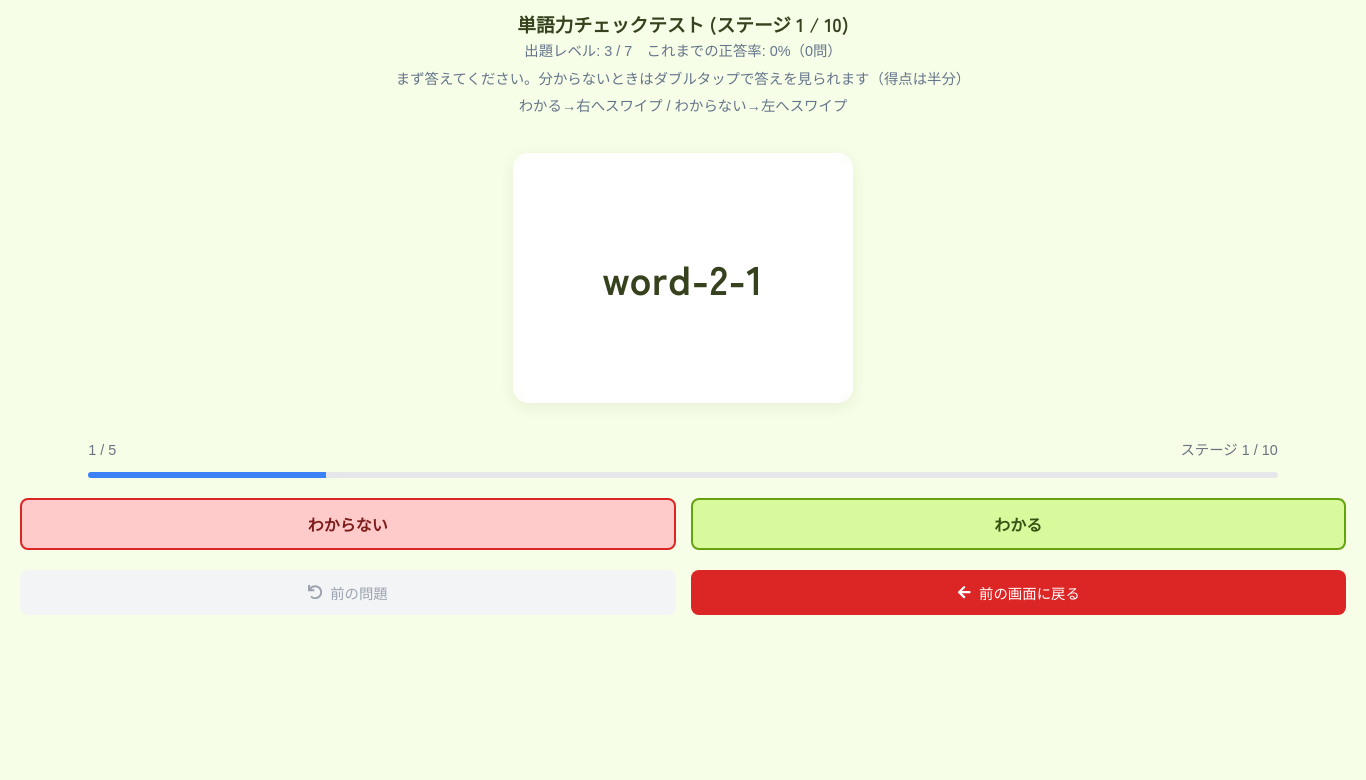
Scenario: ステージ途中でリセットされない › 全問正解するとステージ2の出題レベルが上がる
Expected: the text "出題レベル: 3 / 7 これまでの正答率: 0%（0問）" is shown, [524,43,842,59]
What coordinates should you click on to do the following:
click the button "わかる"
I would click on:
 (1018, 524)
Its box is [690,498,1346,550].
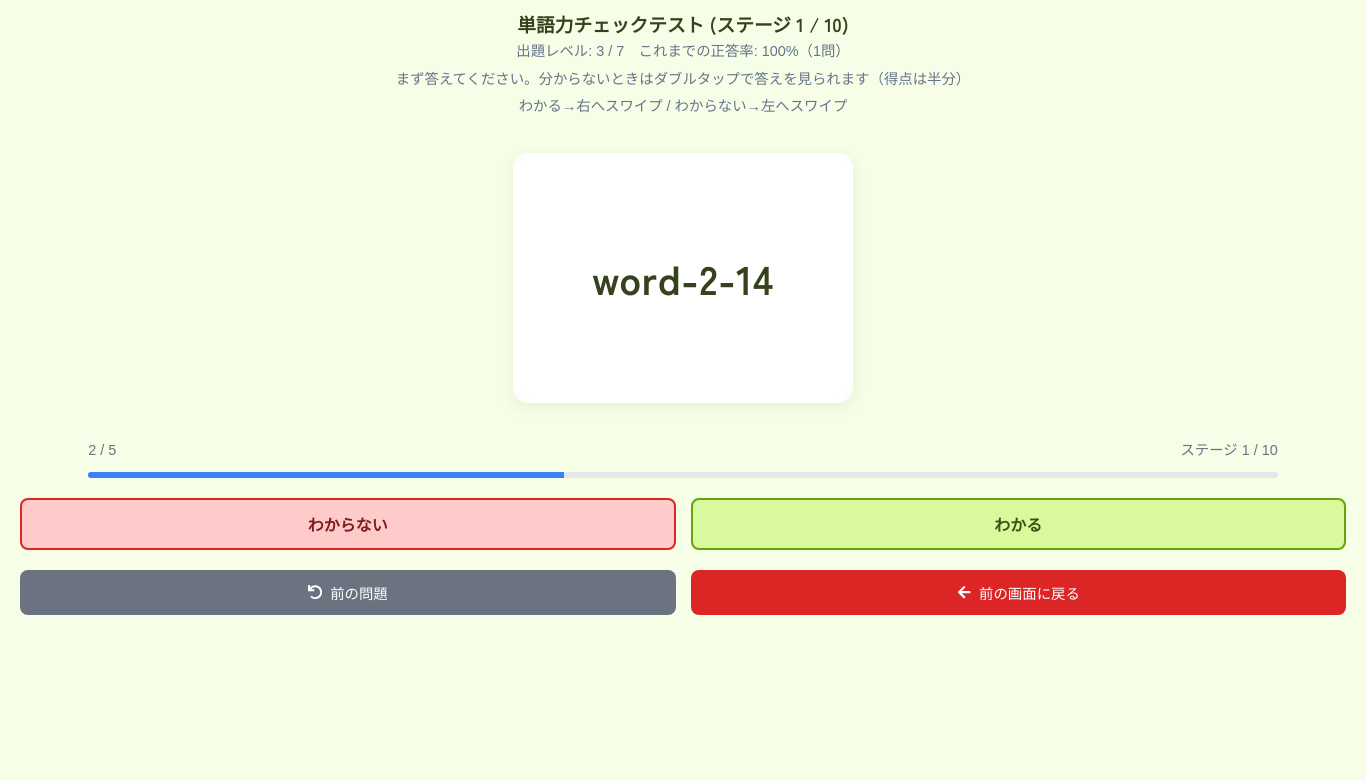
What coordinates should you click on to do the following:
click the button "わかる"
I would click on:
 (1018, 524)
Its box is [690,498,1346,550].
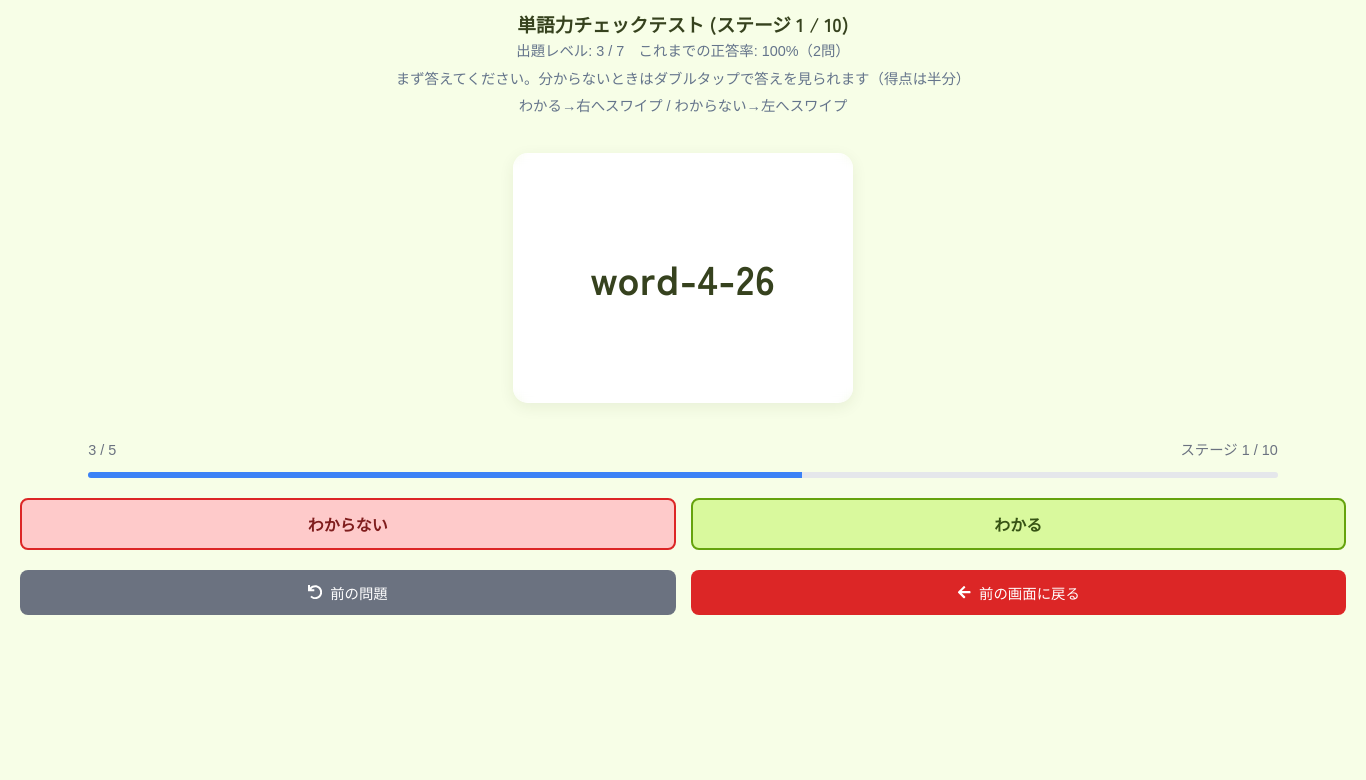
What coordinates should you click on to do the following:
click the button "わかる"
I would click on:
 (1018, 524)
Its box is [690,498,1346,550].
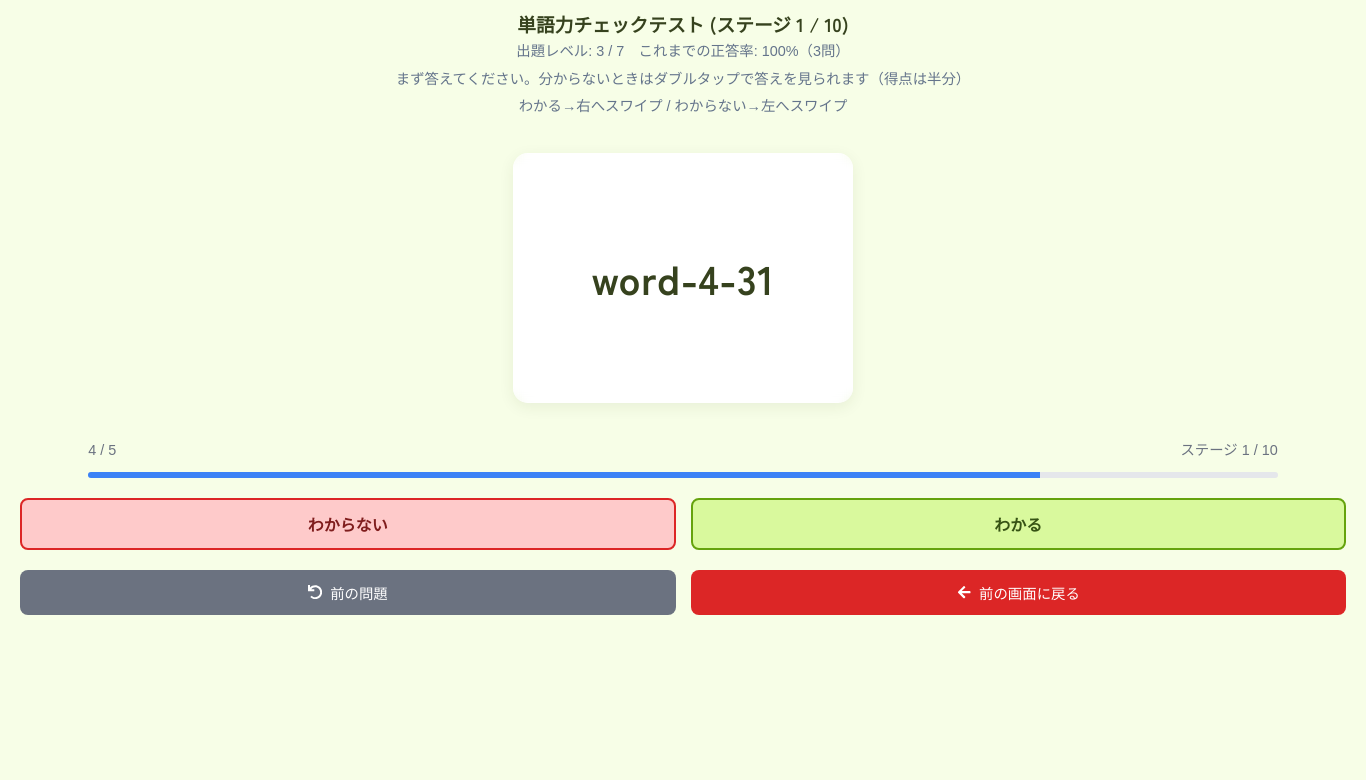
What coordinates should you click on to do the following:
click the button "わかる"
I would click on:
 (1018, 524)
Its box is [690,498,1346,550].
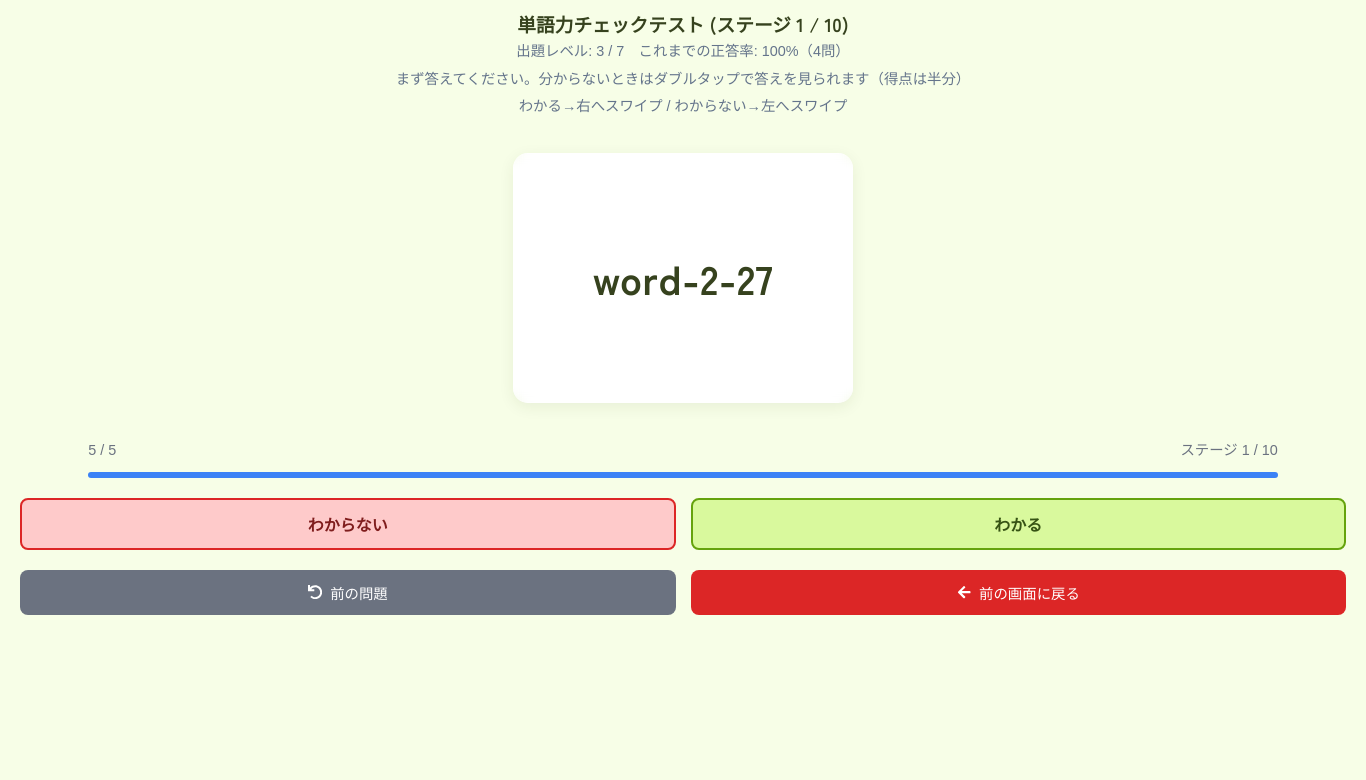
What coordinates should you click on to do the following:
click the button "わかる"
I would click on:
 (1018, 524)
Its box is [690,498,1346,550].
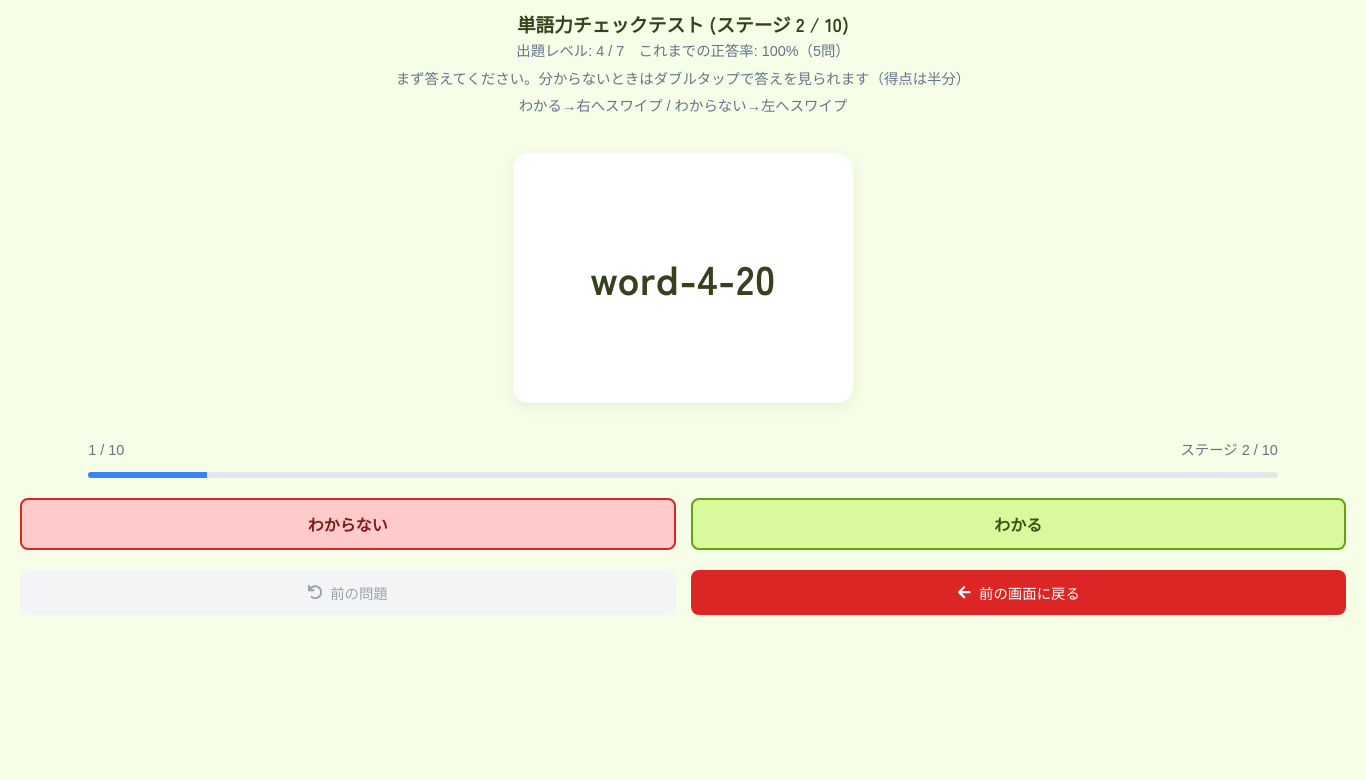
Now the text "出題レベル: 4 / 7 これまでの正答率: 100%（5問）" is shown, box [516,43,850,59]
